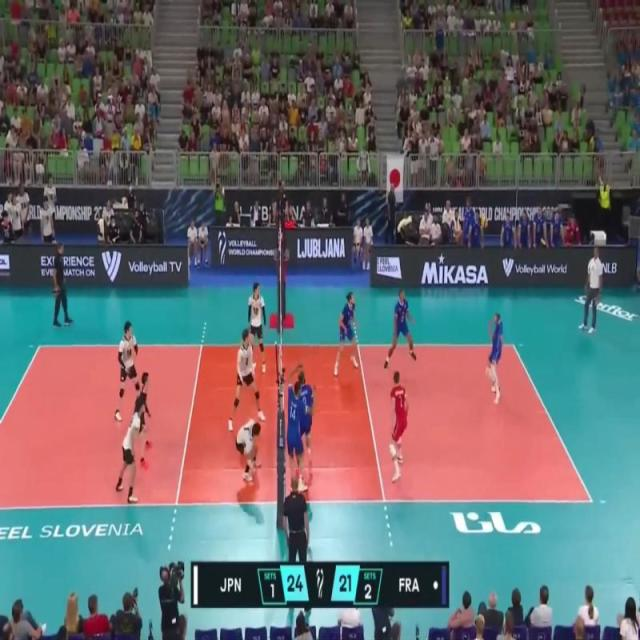volleyball: (480, 215, 490, 230)
